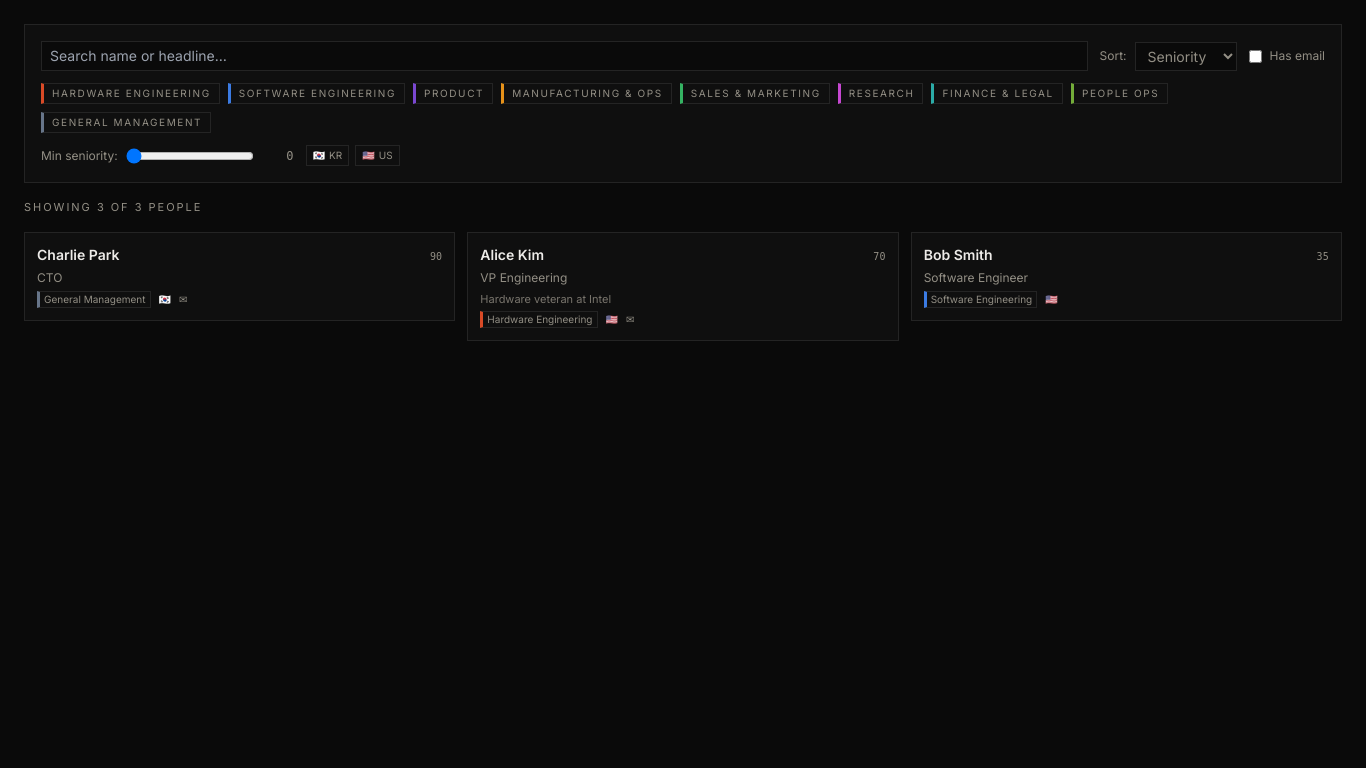
People page rendering › renders empty placeholder when filters exclude everyone
Set the slider with test id "people-min-seniority" to "100" at (246, 156), box left=126, top=148, right=254, bottom=164
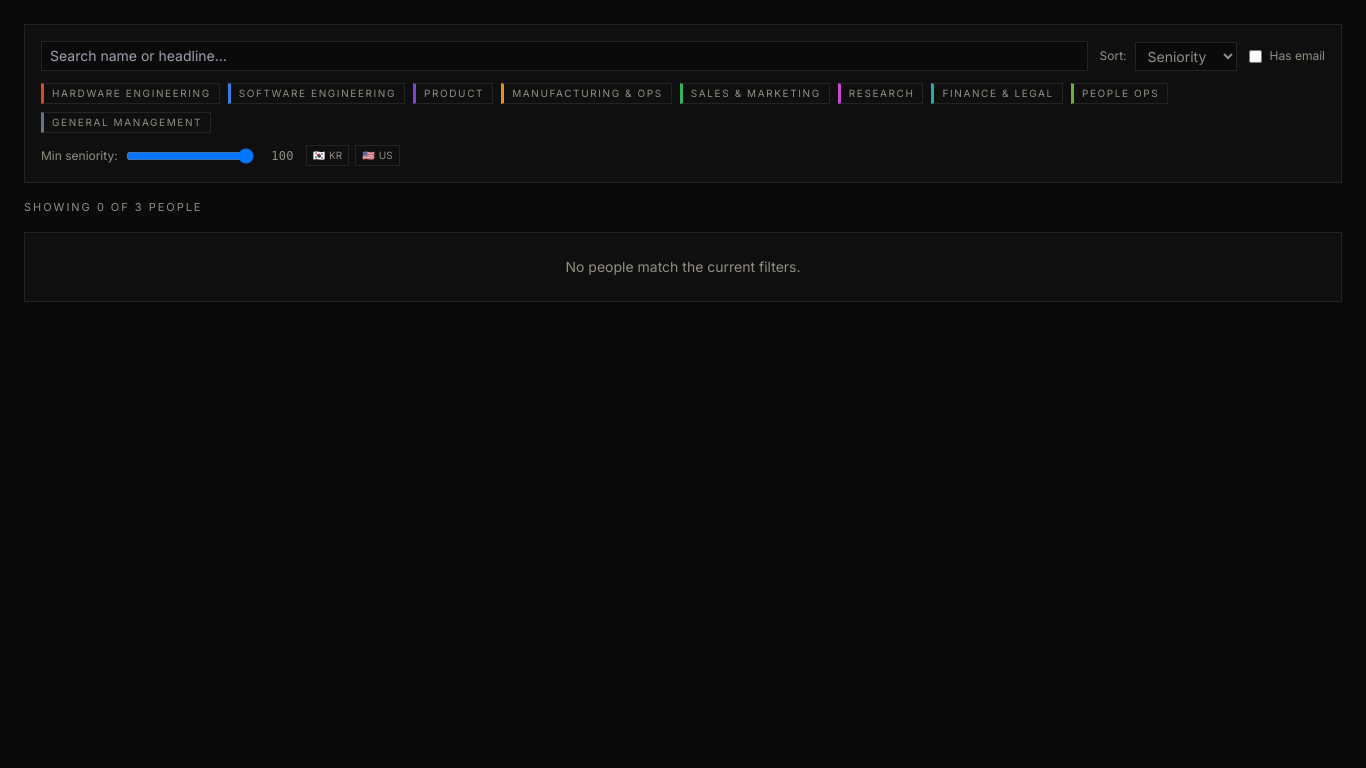
Check: the text "No people match the current filters." is shown, box left=24, top=232, right=1342, bottom=302
